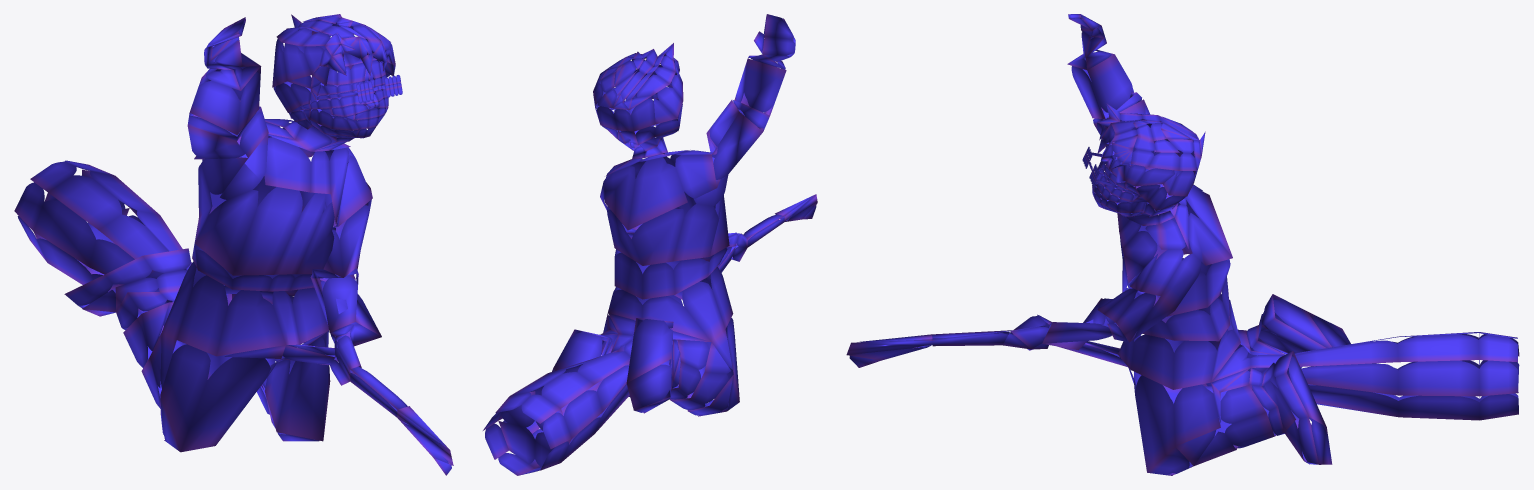
3 views of the same model, side by side, from view 1: azimuth 30°, elevation 25°; view 2: azimuth 150°, elevation 25°; view 3: azimuth 270°, elevation 25° (orthographic). The views are drawn at different scales.
Visible parts, largest first — view 1: T1L3M000_10; view 2: T1L3M000_10; view 3: T1L3M000_10.
Boxes of the visible parts, x1,y1,x2,y2 form: T1L3M000_10: (14,14,453,475); T1L3M000_10: (483,14,817,475); T1L3M000_10: (846,14,1519,475).
Bounding box in the file's own units: 0.5365 × 1.15 × 1.68.
